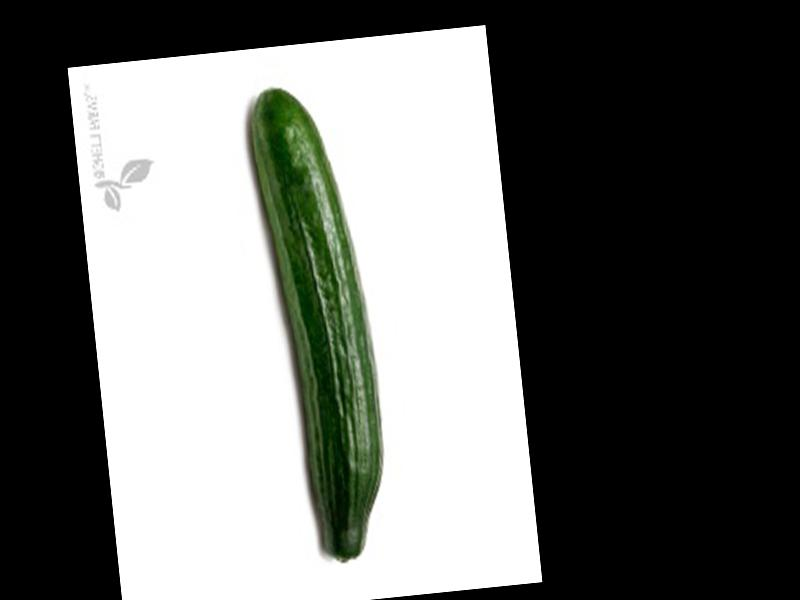Cucumber: (246, 78, 394, 567)
